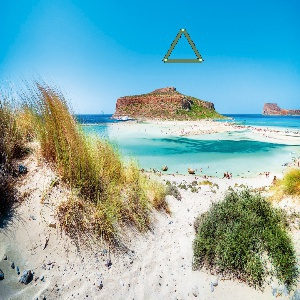triangle: (160, 25, 206, 66)
